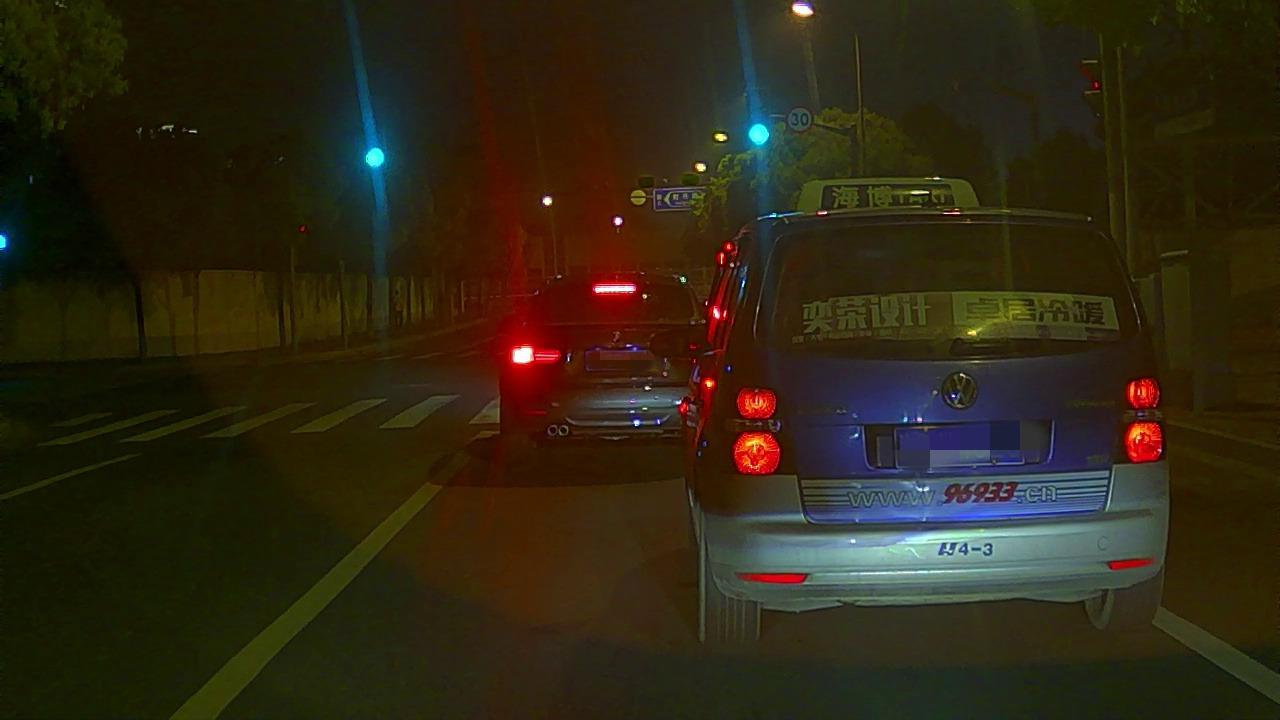traffic_light: (749, 88, 769, 148), (366, 147, 384, 169)
